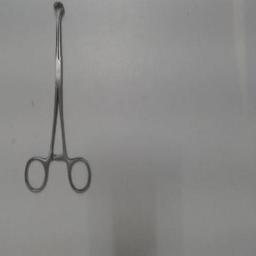Babcock Tissue Forceps: (23, 0, 93, 196)
